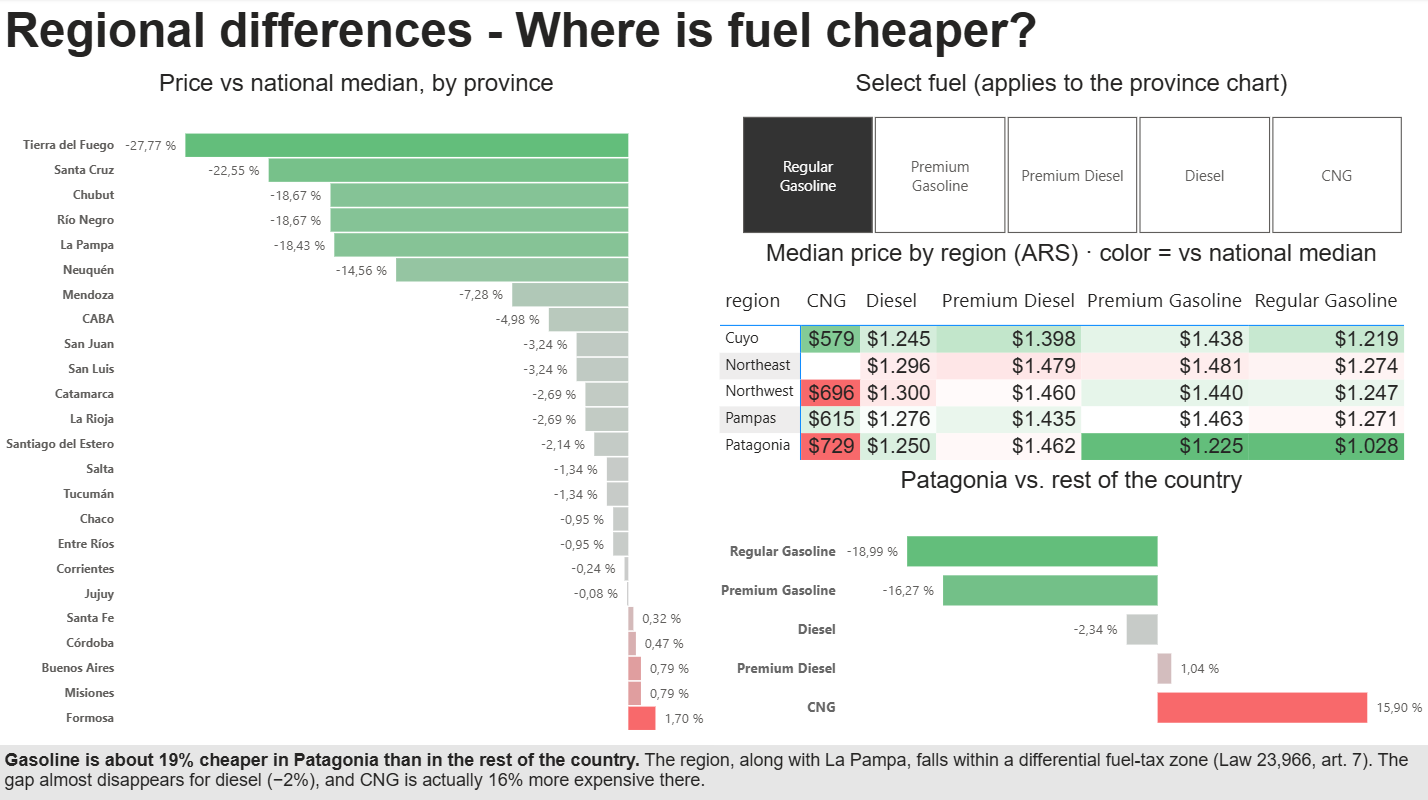

What the dashboard file says about the page in this screenshot:
{"tool":"powerbi","page":{"name":"Regions","canvas":[1280,720],"ordinal":2},"visuals":[{"type":"clusteredBarChart","title":"Price vs national median, by province","fields":{"Category":["stations.province"],"Y":["monthly_prices.Price vs National %"]},"box":[0,64.2,640,605],"z":0},{"type":"pivotTable","title":"Median price by region (ARS) · color = vs national median","fields":{"Columns":["monthly_prices.product"],"Rows":["stations.region"],"Values":["monthly_prices.Median Price"]},"box":[640,216.9,640,203.3],"z":1000},{"type":"slicer","title":"Select fuel (applies to the province chart)","fields":{"Values":["monthly_prices.product"]},"box":[640,64.2,640,152.7],"z":2000},{"type":"textbox","box":[0,0,1280,64.2],"z":3000},{"type":"textbox","box":[0,669.2,1280,50.6],"z":4000},{"type":"clusteredBarChart","title":"Patagonia vs. rest of the country","fields":{"Category":["monthly_prices.product"],"Y":["current_prices.Patagonia vs Rest %"]},"box":[640,420.2,640,249],"z":5000}]}

Visuals, with their boxes in screenshot pixels (x1, y1, x2, y2), scaled from the page's 1280x720 canvas onto the 1428x800 screenshot:
"Price vs national median, by province" clusteredBarChart: {"x1": 0, "y1": 71, "x2": 714, "y2": 744}
"Median price by region (ARS) · color = vs national median" pivotTable: {"x1": 714, "y1": 241, "x2": 1427, "y2": 467}
"Select fuel (applies to the province chart)" slicer: {"x1": 714, "y1": 71, "x2": 1427, "y2": 241}
textbox: {"x1": 0, "y1": 0, "x2": 1427, "y2": 71}
textbox: {"x1": 0, "y1": 744, "x2": 1427, "y2": 799}
"Patagonia vs. rest of the country" clusteredBarChart: {"x1": 714, "y1": 467, "x2": 1427, "y2": 744}
